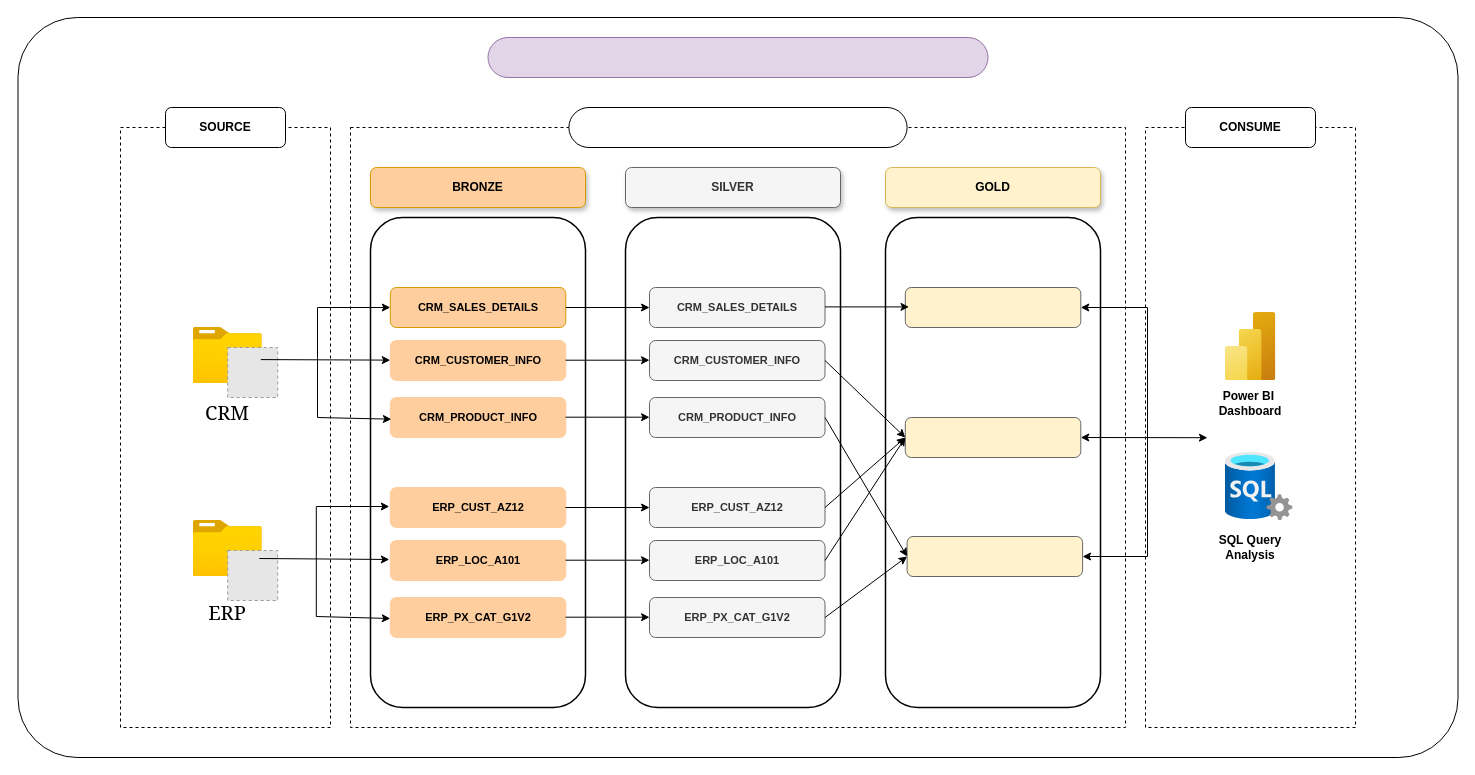
The diagram is 1475 pixels wide and 775 high, and some of its shapes have lost their labels. Grey dashed boxes stand in for pictures. The shapes that lost their labels are listed below. From the top down, each one's centre as x and y in pixels, then its label:
At point (737, 57): "LEDGERLINK CRM-ERP DW - DATA FLOW DIAGRAM".
At point (737, 127): "DATA WAREHOUSE".
At point (992, 307): "FACT_SALES".
At point (992, 437): "DIM_CUSTOMERS".
At point (994, 556): "DIM_PRODUCTS".
